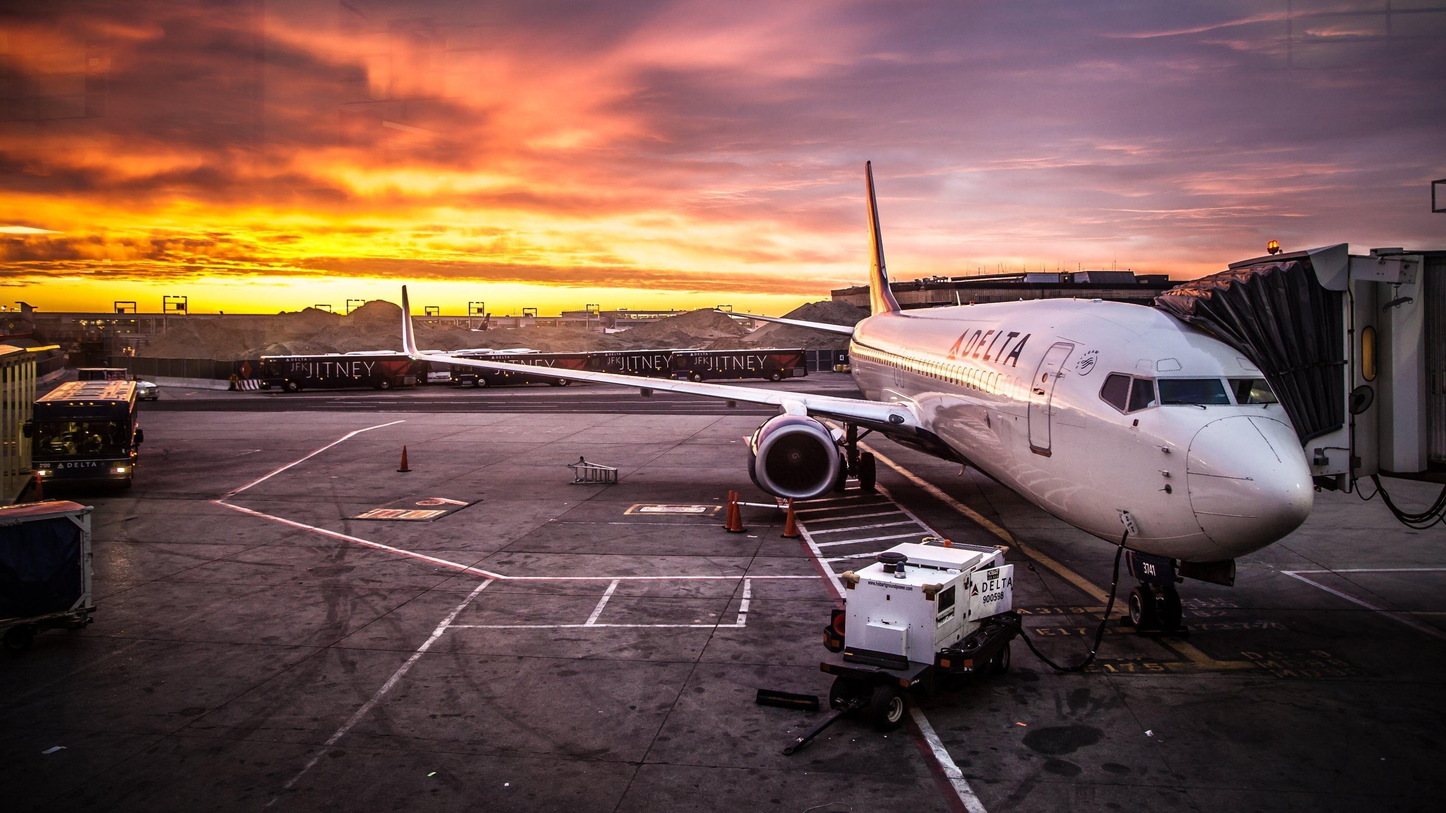aircraft: (396, 160, 1303, 623)
